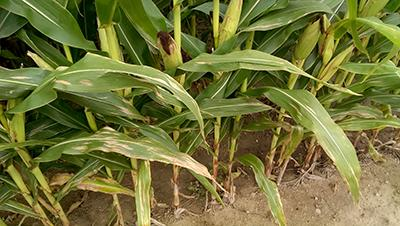Corn leaf blight: (241, 84, 363, 201), (12, 60, 206, 131), (32, 132, 213, 186), (1, 65, 144, 122), (174, 47, 363, 89), (152, 94, 276, 130), (234, 153, 288, 226)
